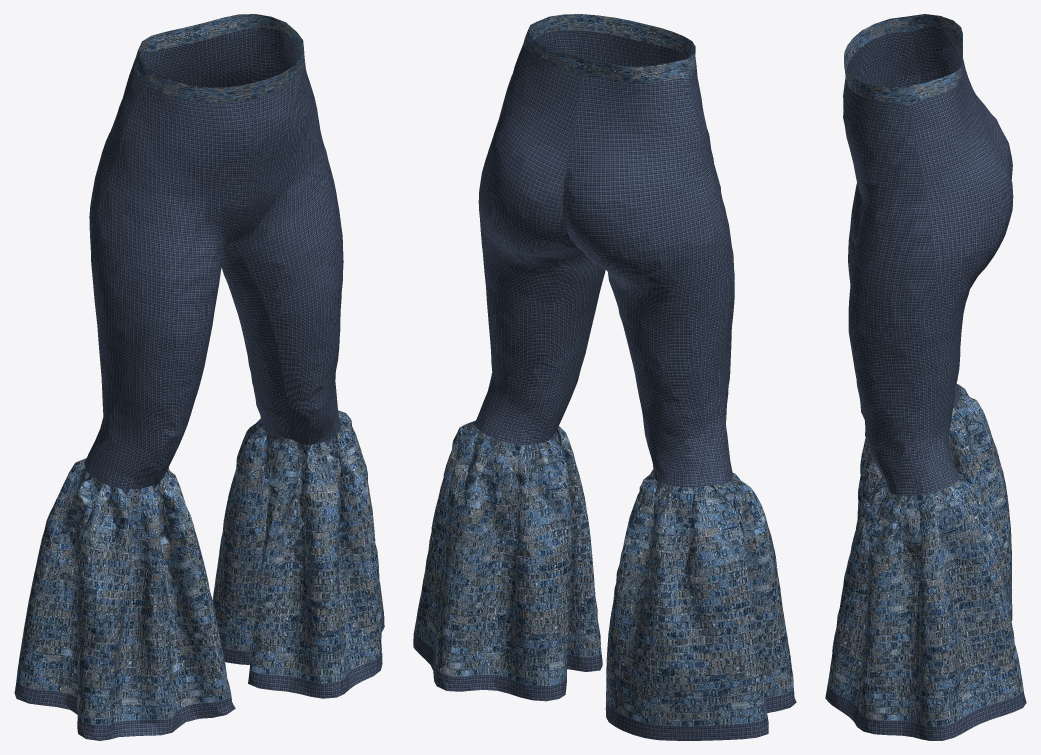
Rendered from elvs-disco-pants-single-ruffles.glb.
3 views of the same model, side by side, from view 1: azimuth 30°, elevation 25°; view 2: azimuth 150°, elevation 25°; view 3: azimuth 270°, elevation 25° (orthographic). The views are drawn at different scales.
Parts seen in each view (by area): view 1: disco pants single ruffles; view 2: disco pants single ruffles; view 3: disco pants single ruffles.
Part boxes in pixels (left/top/right/bottom): disco pants single ruffles: left=14, top=14, right=384, bottom=740; disco pants single ruffles: left=413, top=14, right=796, bottom=740; disco pants single ruffles: left=825, top=14, right=1026, bottom=740.
Size of the model in its own units: 57.85 by 99.55 by 29.09.
1 material, 1 textured.
